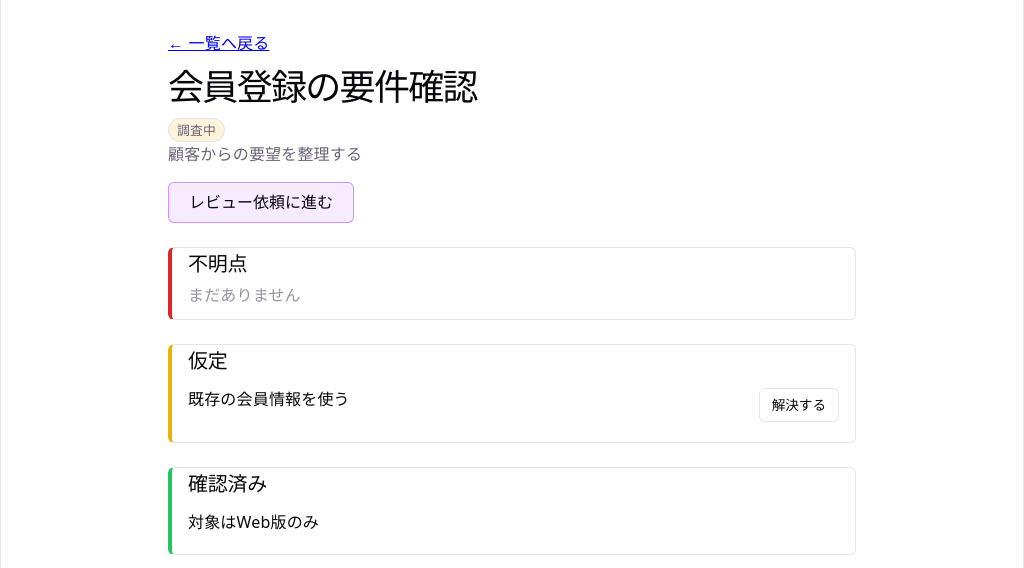
Test: レビュー依頼 › 不明点がなければレビュー依頼に進み、ステータスがレビュー中になる
Click the button "レビュー依頼に進む".
click(261, 202)  # box [168, 182, 354, 223]
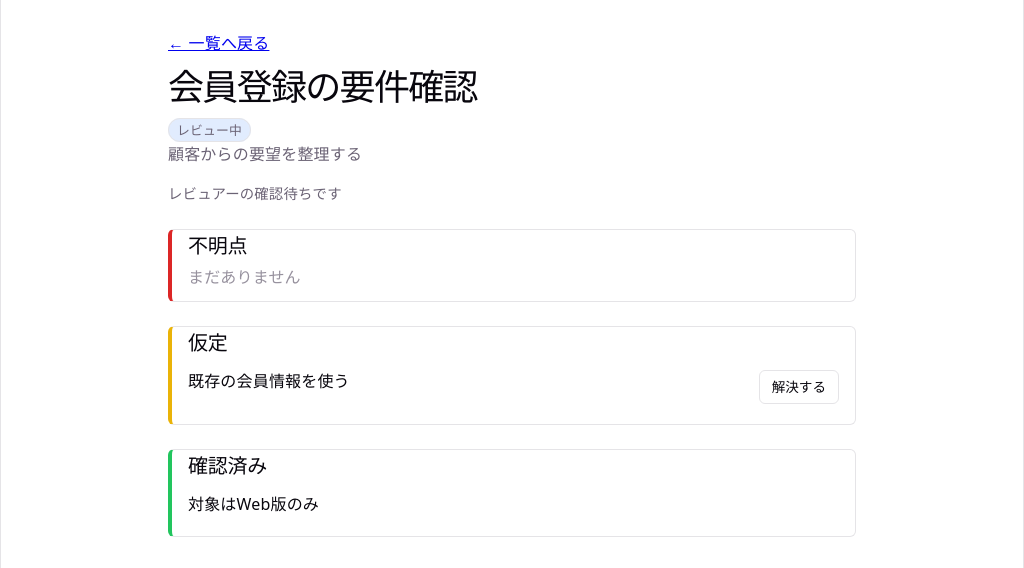
Expected: the text "対象はWeb版のみ" is shown, [188, 493, 319, 516]
Expected: the text "レビュー中" is shown, [168, 118, 251, 142]
Expected: the button "レビュー依頼に進む" is gone
